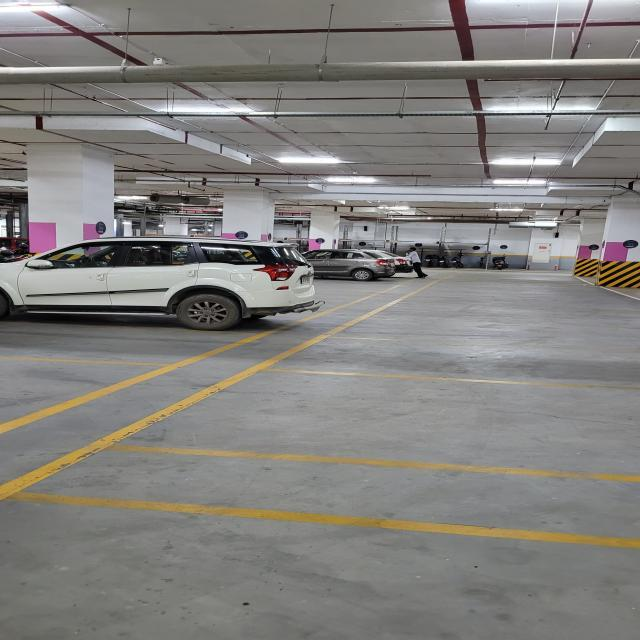car: (10, 265, 298, 326)
free: (4, 484, 634, 614), (173, 369, 640, 468), (280, 325, 640, 380), (0, 326, 190, 381)
